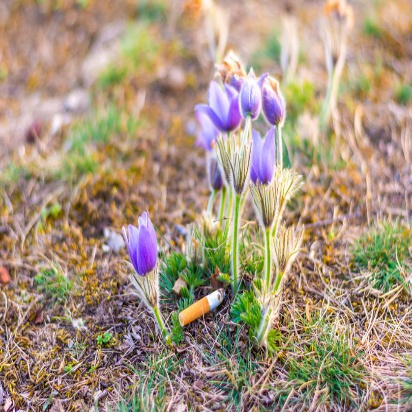cigarette: (172, 285, 229, 331)
